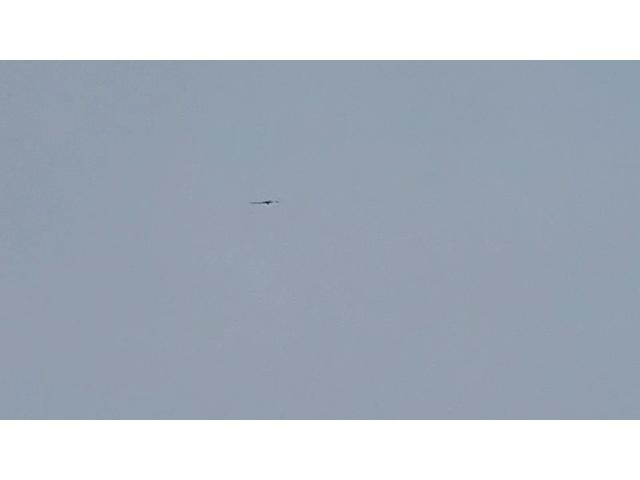Anti-Drone: (249, 196, 283, 208)
